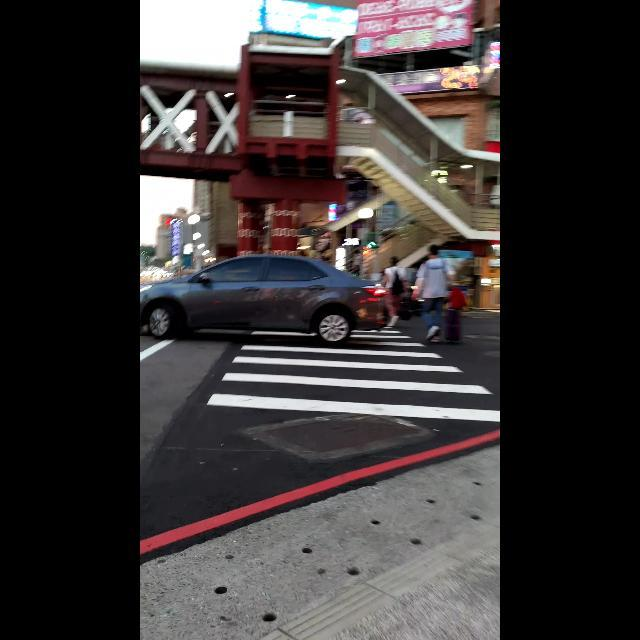sidewalk: (213, 318, 500, 425)
